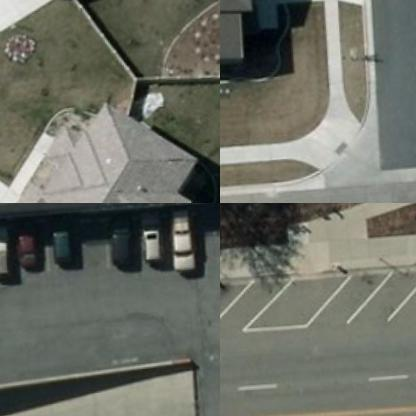car: (168, 204, 204, 277), (9, 219, 46, 274), (106, 212, 140, 270), (49, 214, 81, 269), (144, 210, 170, 264), (0, 226, 12, 279)
